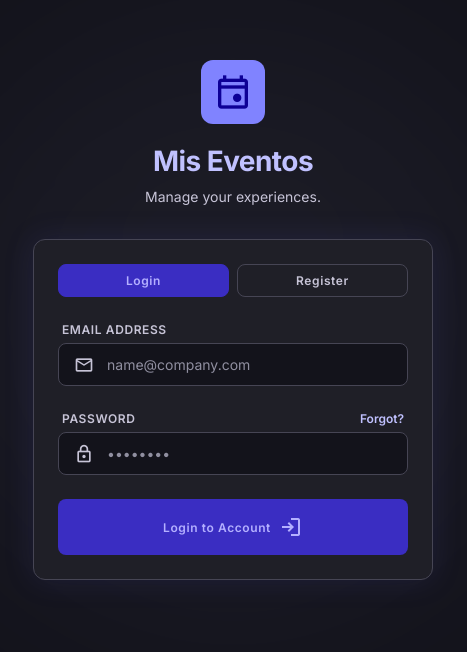
Scenario: LoginPage › switches to register form when Register tab clicked
The width and height of the screenshot is (467, 652).
Click the button "Register": coordinates (322, 280) [237, 264, 408, 297]
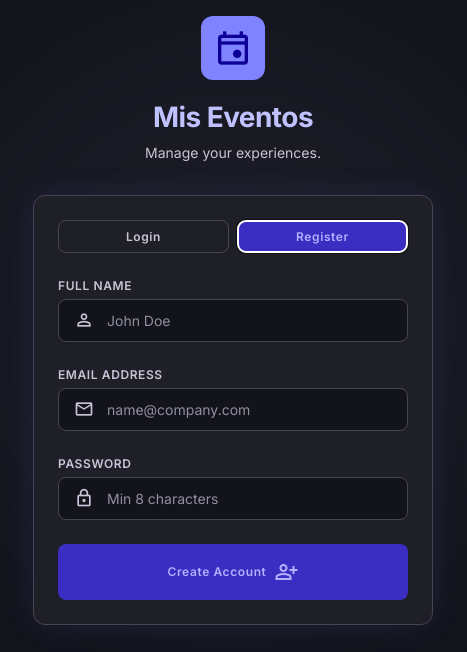
Check: the field labelled "Full Name" is shown, box [58, 298, 408, 342]
